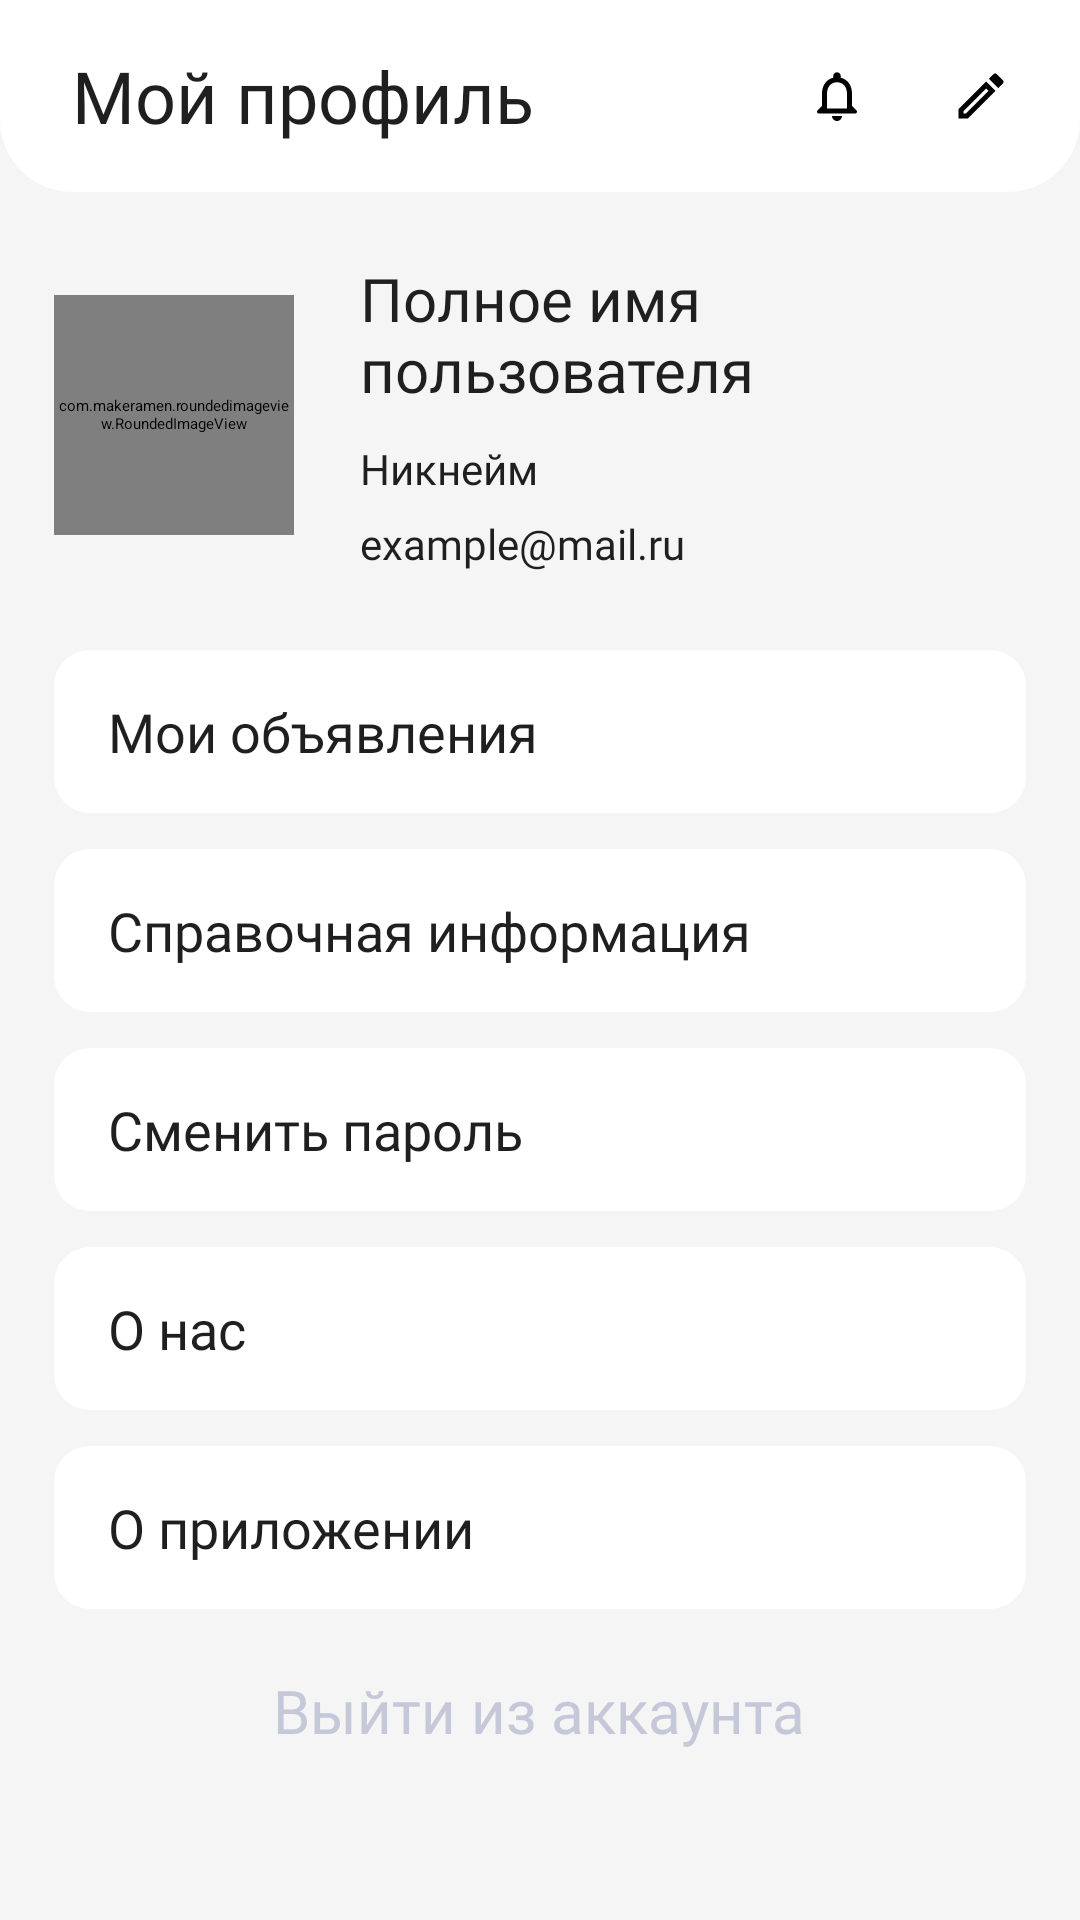

Screen size 1080x1920. Icon name, then its center in pixels as (x=x, y=y):
edit: (x=981, y=96)
notification: (x=837, y=96)
